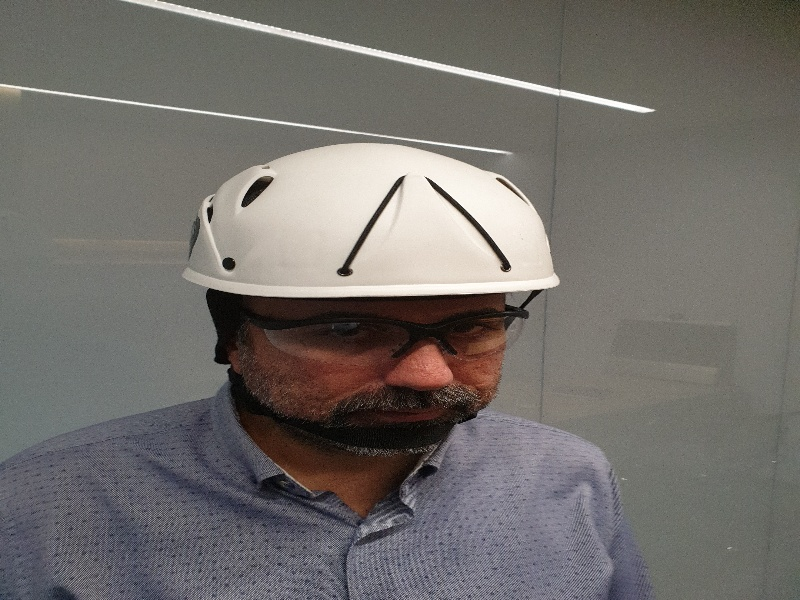Baret: (181, 143, 562, 302)
Gozluk: (222, 308, 529, 359)
